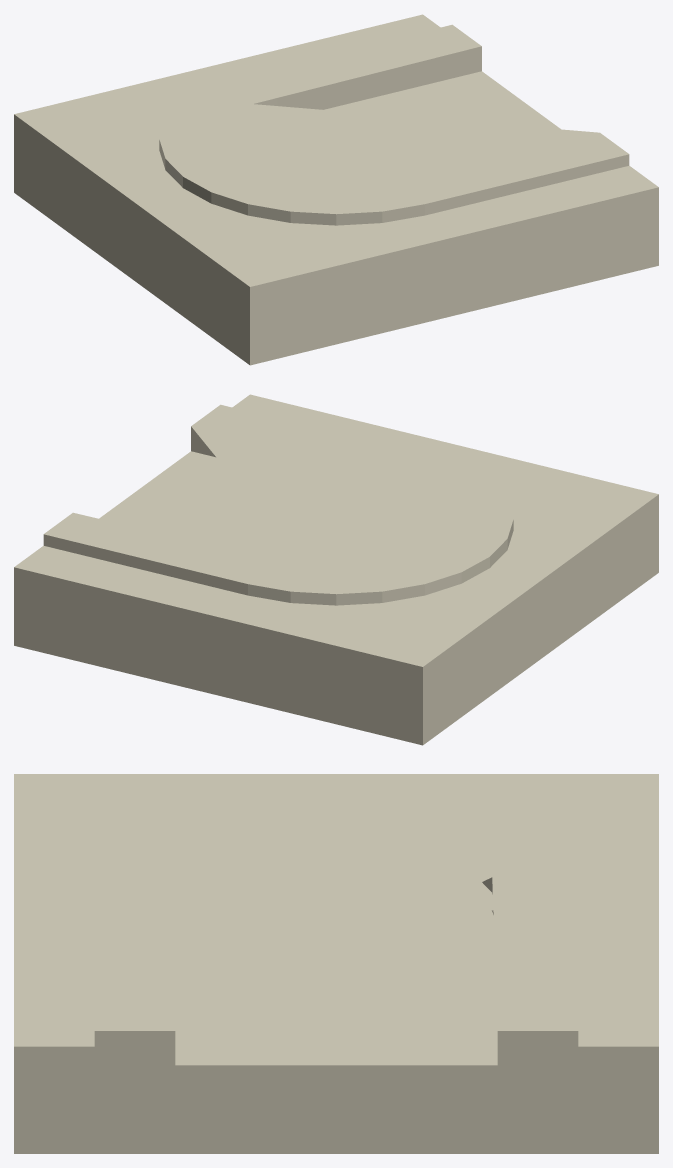
File: roadtile_273.glb
3 views of the same model, one above another, from view 1: azimuth 30°, elevation 25°; view 2: azimuth 150°, elevation 25°; view 3: azimuth 270°, elevation 25° (orthographic). The views are drawn at different scales.
Visible parts, largest first — view 1: Mesh1 Group1 Model; view 2: Mesh1 Group1 Model; view 3: Mesh1 Group1 Model.
Boxes of the visible parts, left/top/right/bottom form: Mesh1 Group1 Model: left=14, top=14, right=658, bottom=365; Mesh1 Group1 Model: left=14, top=394, right=658, bottom=745; Mesh1 Group1 Model: left=14, top=774, right=658, bottom=1153.
Bounding box in the file's own units: 3 × 0.63 × 3.
